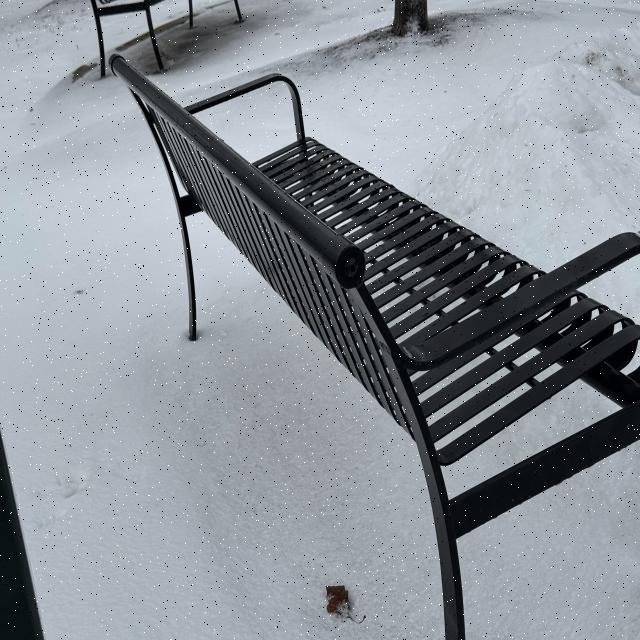Bench: (98, 47, 637, 640)
